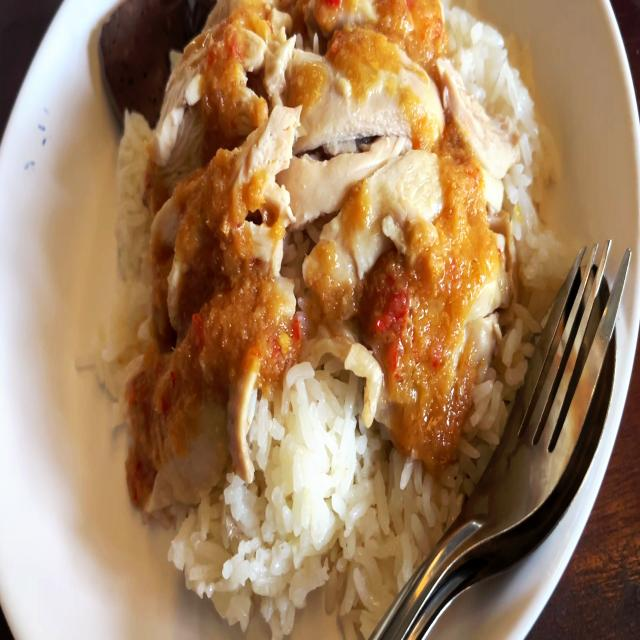boiled_chicken: (166, 0, 494, 451)
boiled_chicken_blood_jelly: (91, 0, 195, 120)
chicken_rice: (88, 0, 555, 631)
